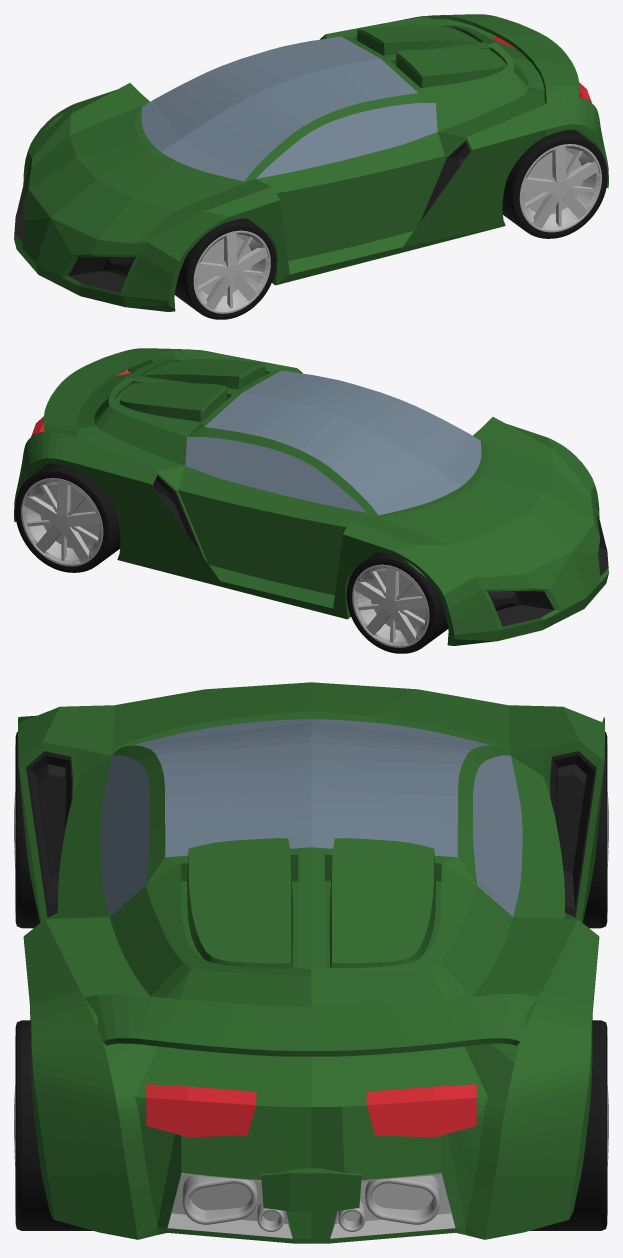
Rendered from CarTingGreen.fbx.
3 renders of one model, top to bottom at view 1: azimuth 30°, elevation 25°; view 2: azimuth 150°, elevation 25°; view 3: azimuth 270°, elevation 25°, orthographic. The views are drawn at different scales.
Parts seen in each view (by area): view 1: Body, Circle.002, Circle.003; view 2: Body, Circle.001, Circle.000; view 3: Body, Brake, Circle.001, Circle.002, Circle.000, Circle.003.
Part boxes in pixels (x1,y1,x2,y2): Body: (14,14,608,311); Circle.002: (502,129,607,238); Circle.003: (174,218,276,319); Body: (14,348,608,645); Circle.001: (15,463,120,572); Circle.000: (346,552,448,653); Body: (18,682,604,1243); Brake: (146,1084,476,1137); Circle.001: (530,1020,608,1230); Circle.002: (14,1020,92,1230); Circle.000: (583,732,608,928); Circle.003: (14,732,39,928).
Bounding box in the file's own units: 545 × 154 × 278.
